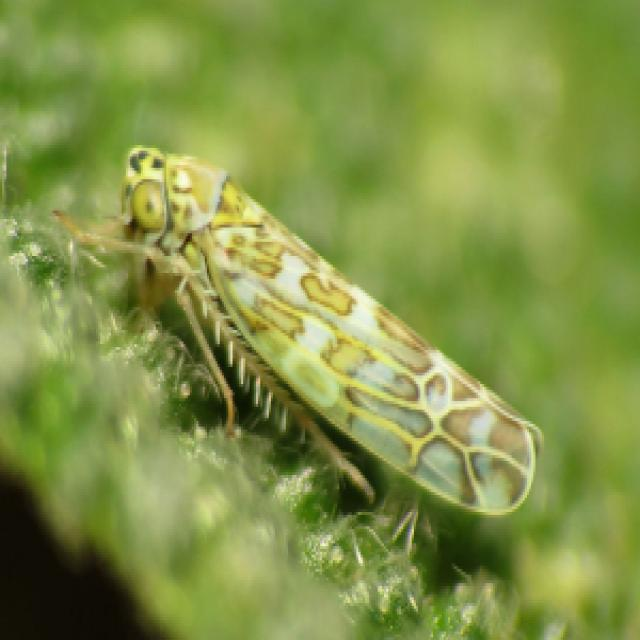Yechan: (101, 126, 558, 536)
